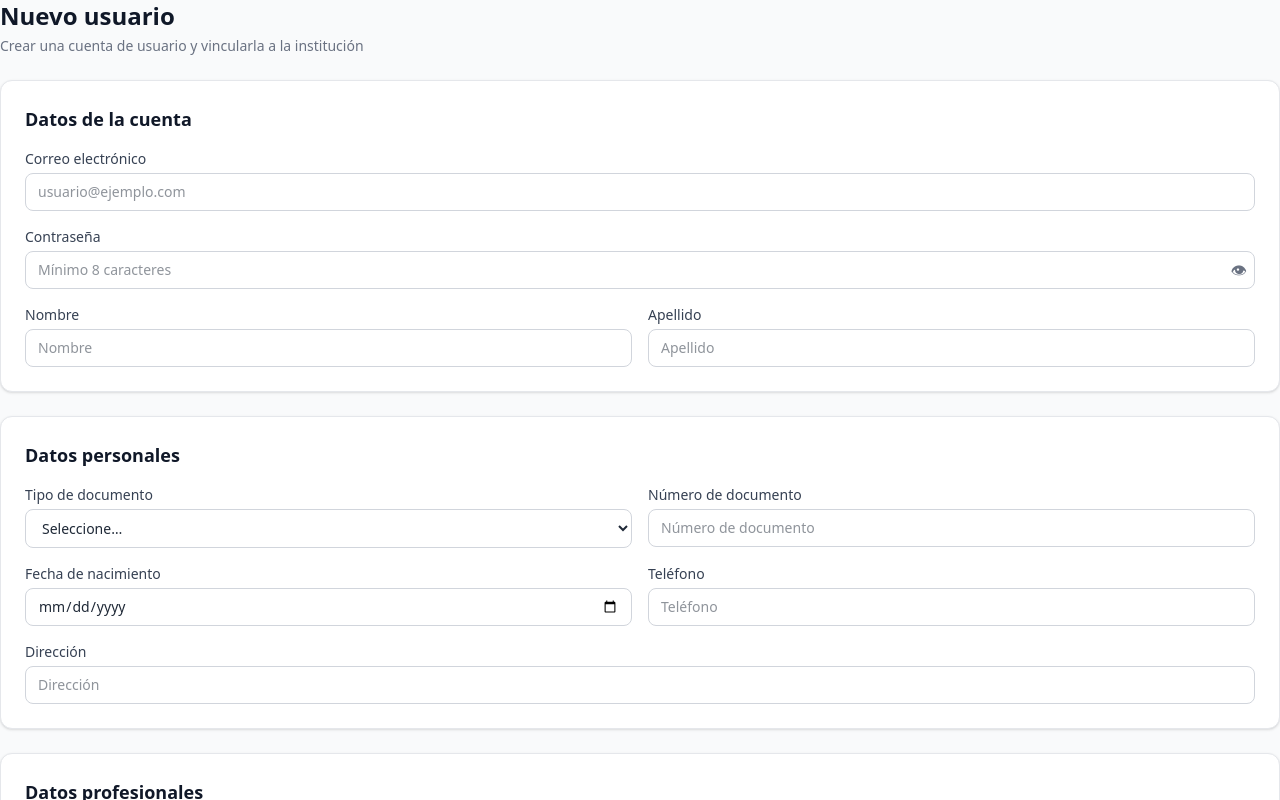
Test case: CreateUserPage › warns when document type and number are not provided together
The image size is (1280, 800).
Type "doc@colegio.edu.co" into the field labelled "Correo electrónico". click: [640, 192]
box: [25,173,1255,211]
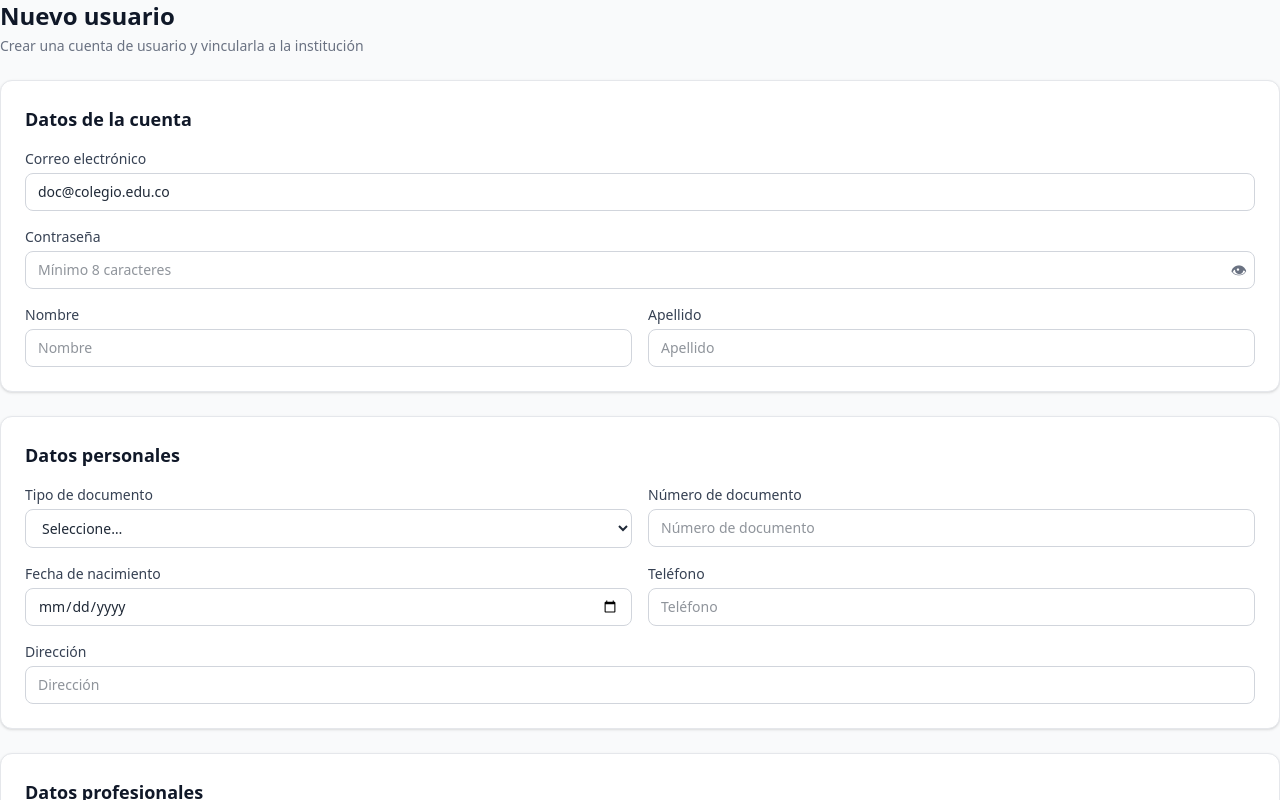
Type "Password123" into the password field labelled "Contraseña". click: [640, 270]
box: [25,251,1255,289]
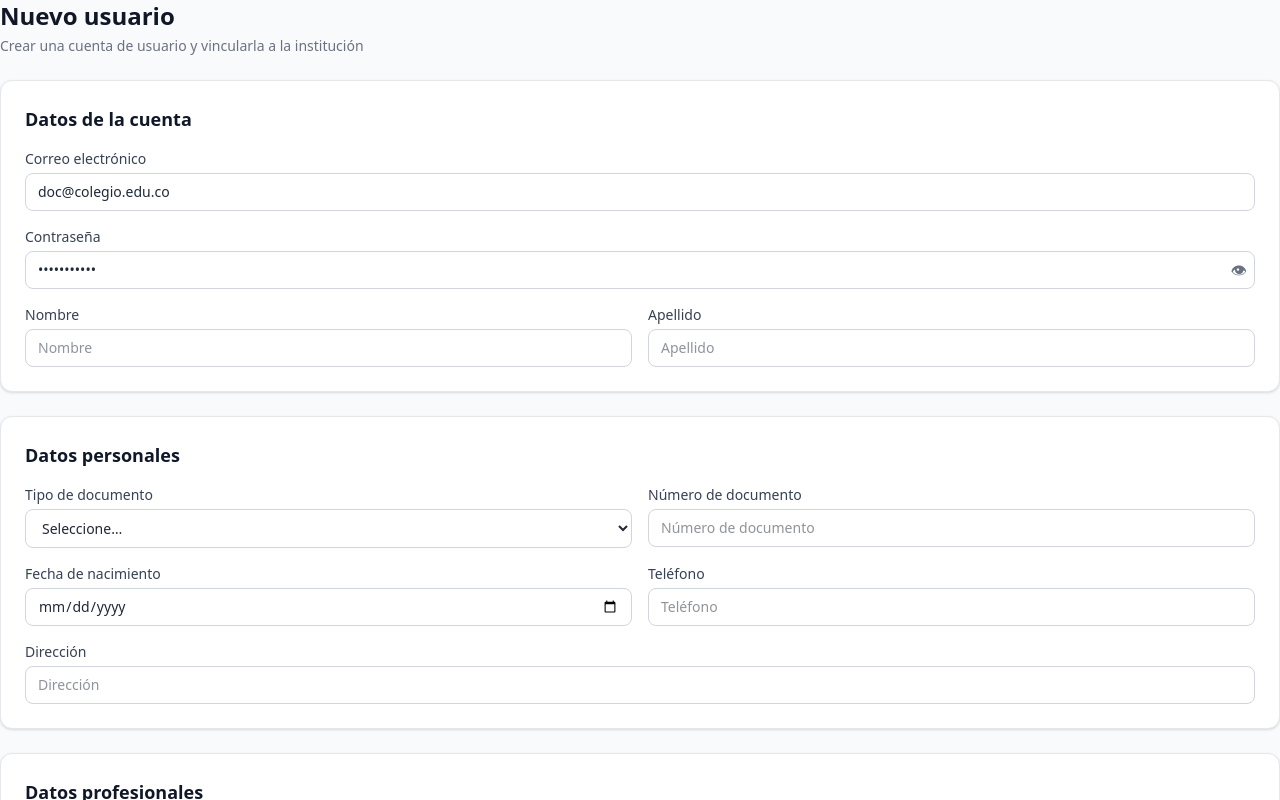
Type "Andrea" into the field labelled "Nombre". click: [328, 348]
box: [25,329,632,367]
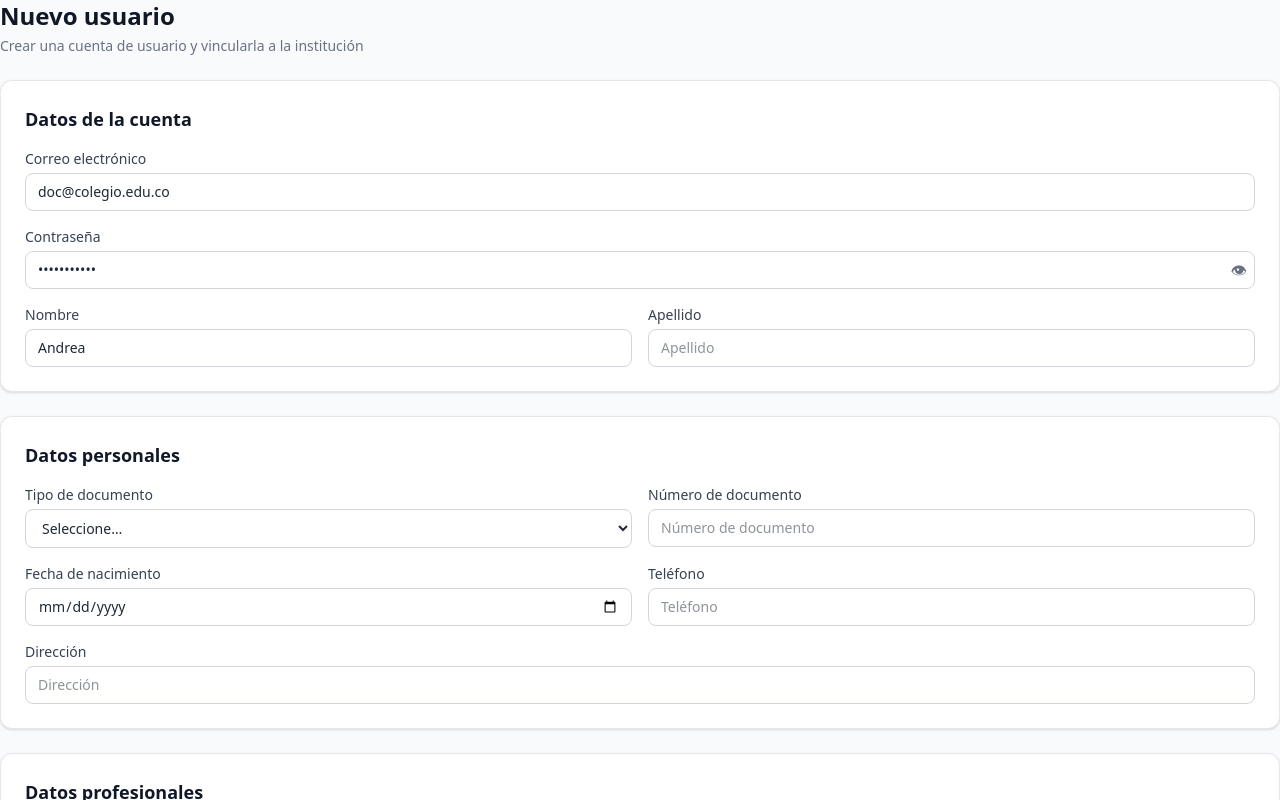
Type "Gómez" into the field labelled "Apellido". click: [952, 348]
box: [648,329,1255,367]
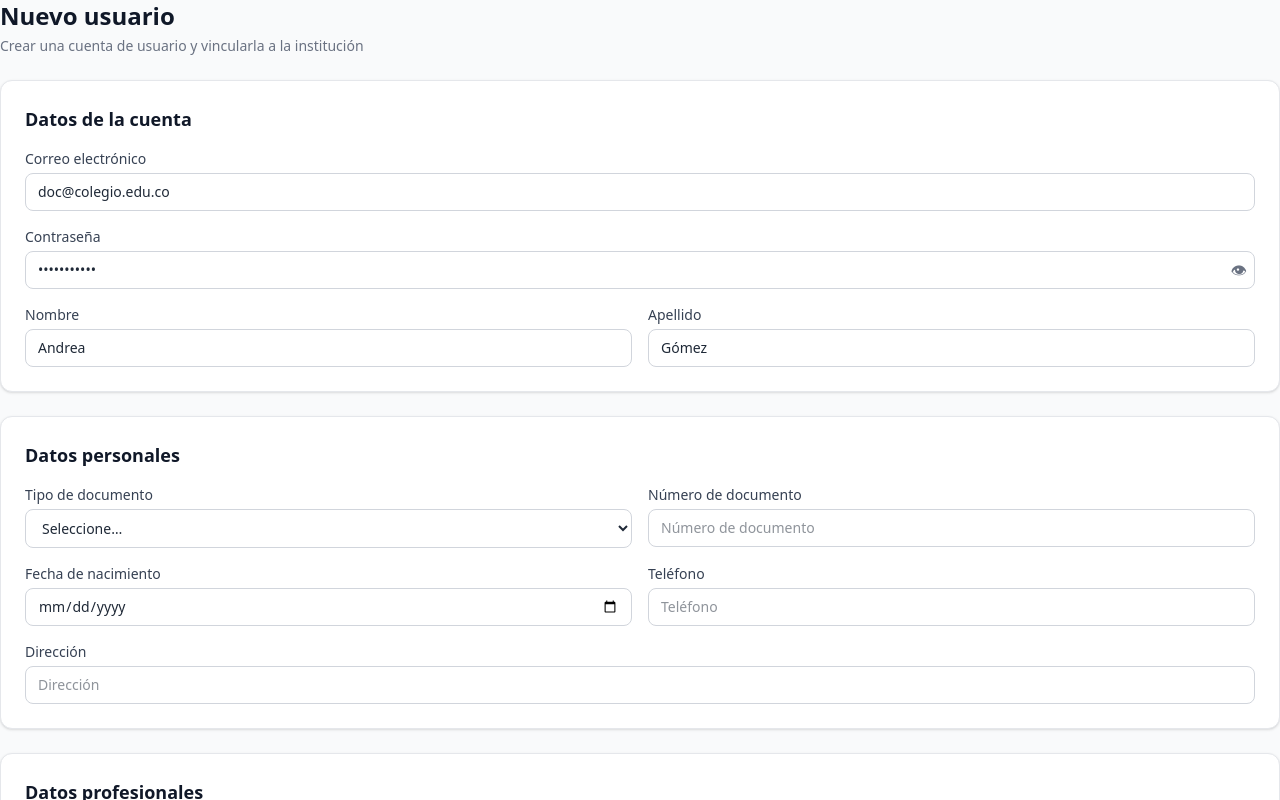
Type "12345678" into the field labelled "Número de documento". click: [952, 528]
box: [648,509,1255,547]
(page scrolled)
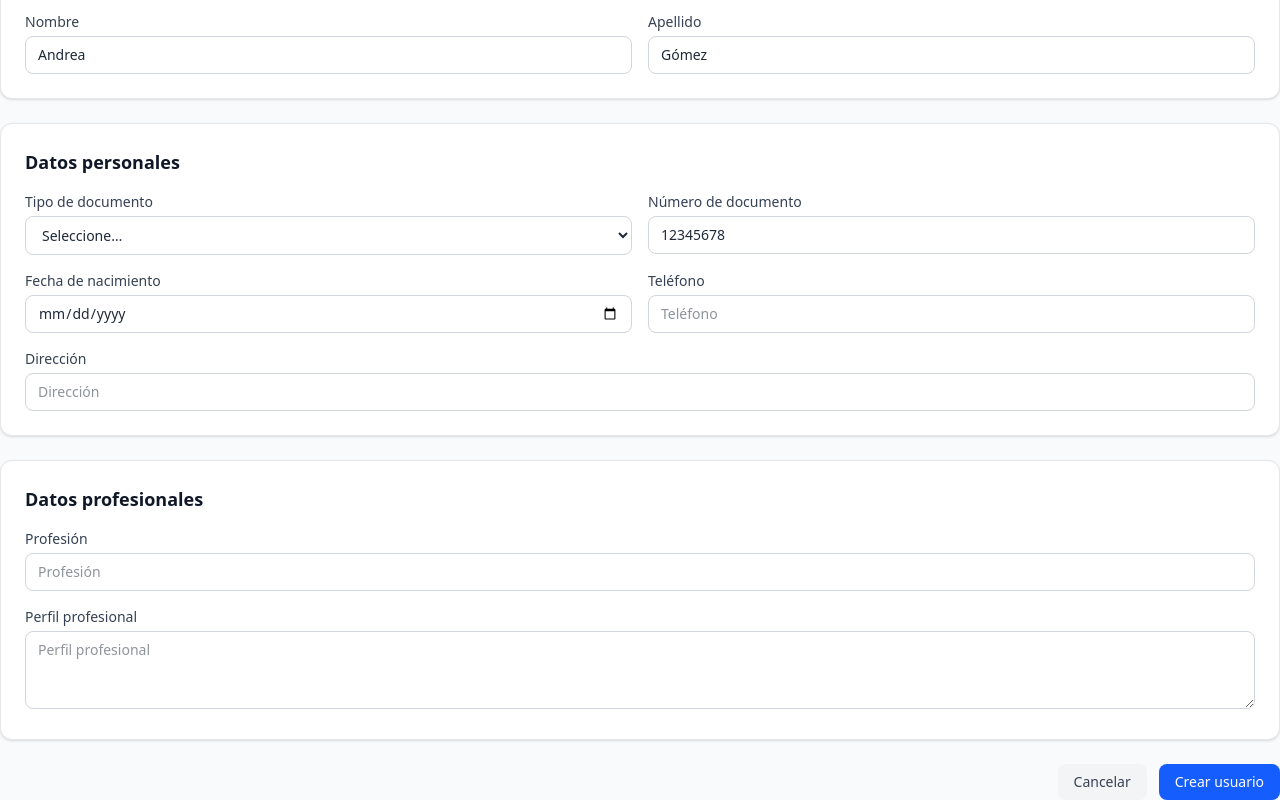
Click the button "Crear usuario". click: [1219, 782]
box: [1159,764,1279,799]
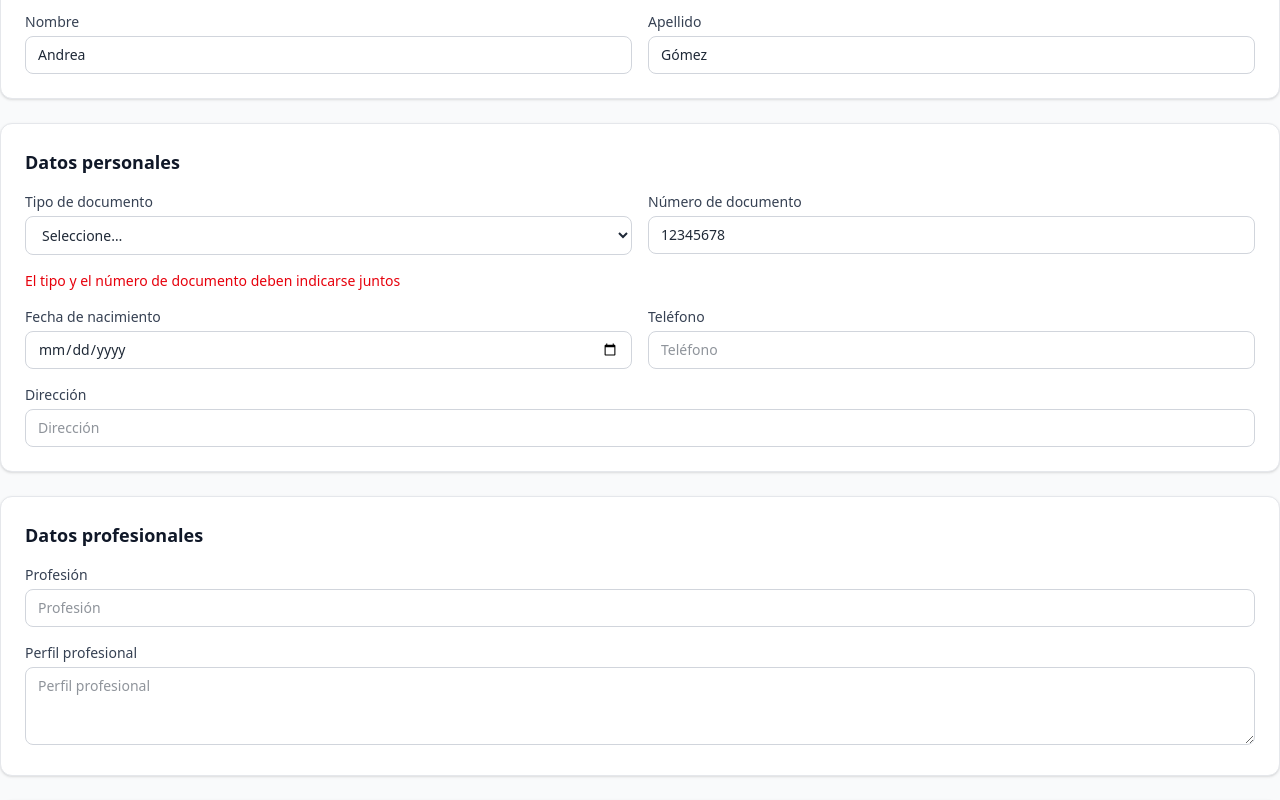
Check: the text "El tipo y el número de documento deben indicarse juntos" is shown, box [25,271,400,290]
